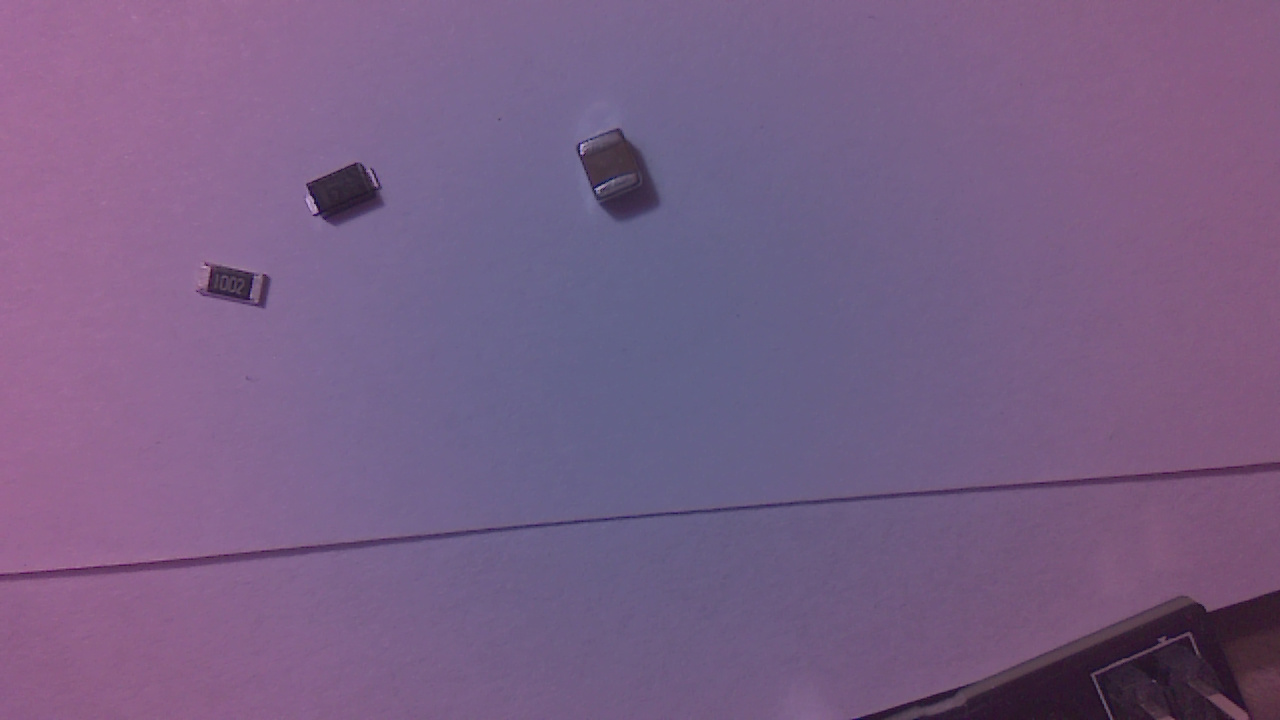Condensator: (579, 133, 650, 213)
Diode: (307, 168, 385, 224)
Resistor: (199, 266, 277, 310)
